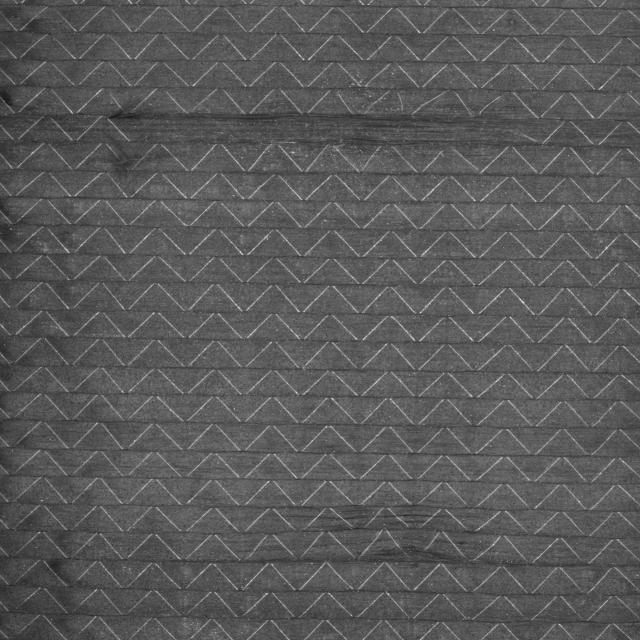carbon-fibre-defect: (106, 106, 506, 155), (323, 502, 477, 567)
